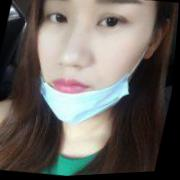WRONG: (20, 1, 158, 130)
